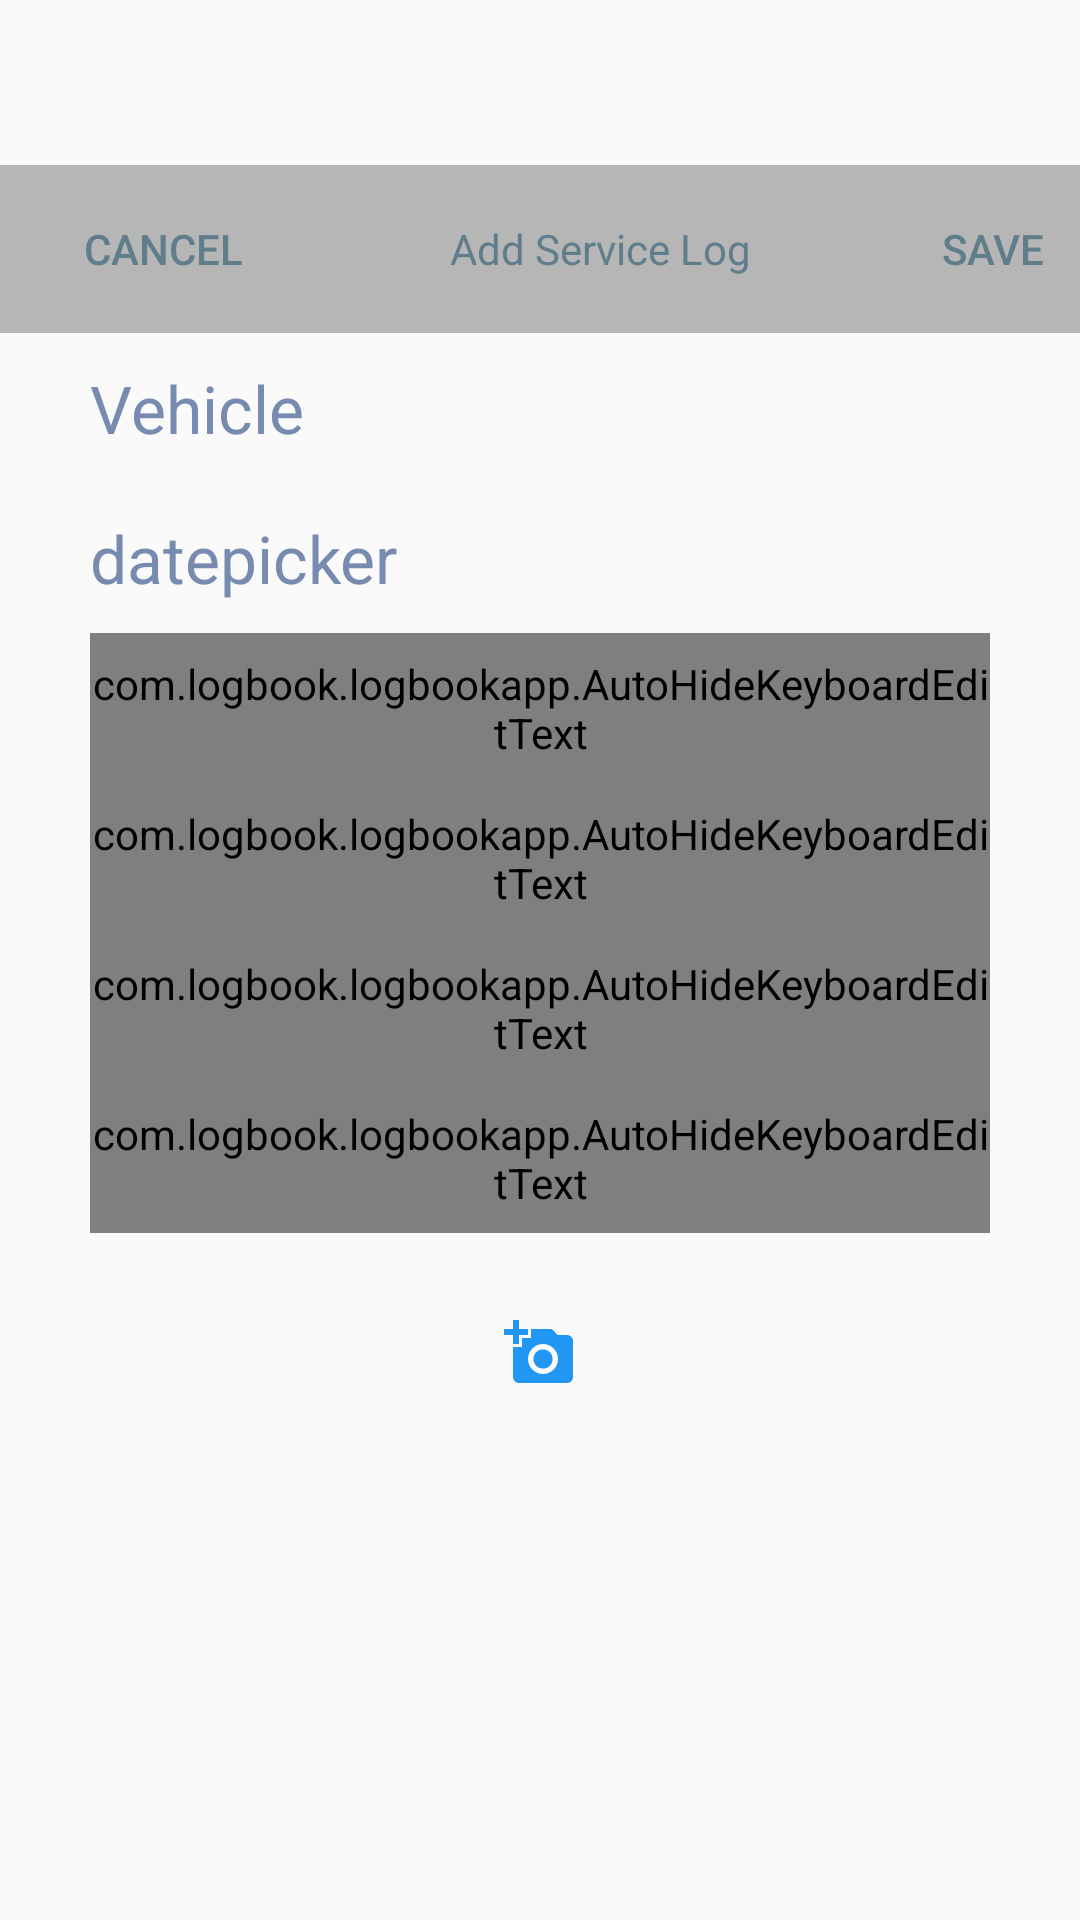

Named icons in this screenshot (1080x1920) and their bounding boxes, bbox(x1, y1, x2, y2):
camera: bbox(504, 1320, 573, 1383)
